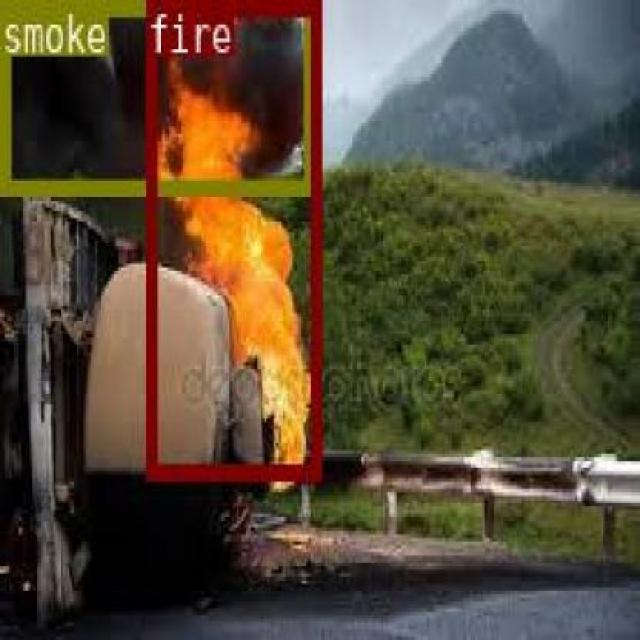Fire: (177, 239, 232, 478)
Smoke: (0, 32, 246, 157)
